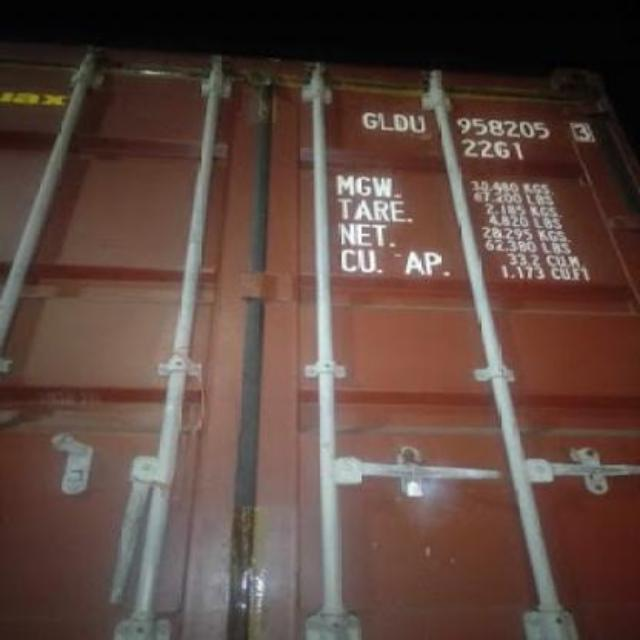0: (520, 111, 534, 141)
2: (504, 110, 520, 140)
3: (572, 118, 598, 146)
5: (534, 112, 550, 142), (470, 112, 488, 134)
8: (488, 113, 504, 137)
9: (452, 112, 472, 134)
D: (394, 107, 410, 137)
G: (358, 106, 378, 134)
L: (376, 105, 396, 137)
U: (406, 105, 428, 137)
